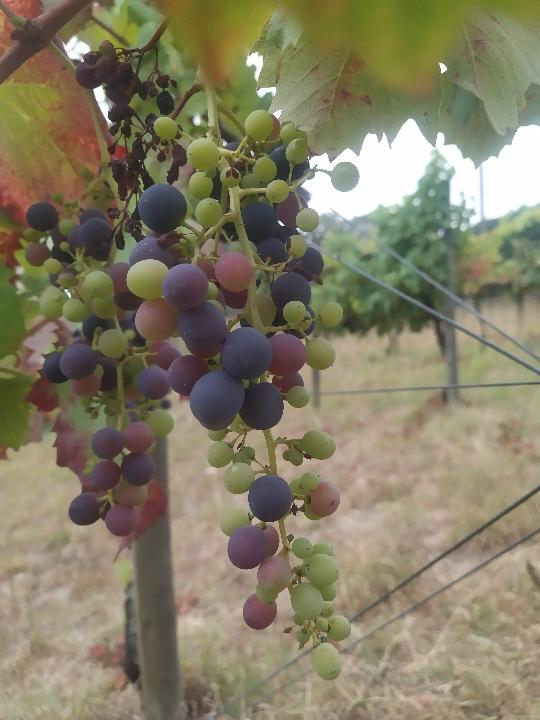grape: (127, 86, 360, 685), (15, 202, 174, 540), (74, 42, 186, 257)
